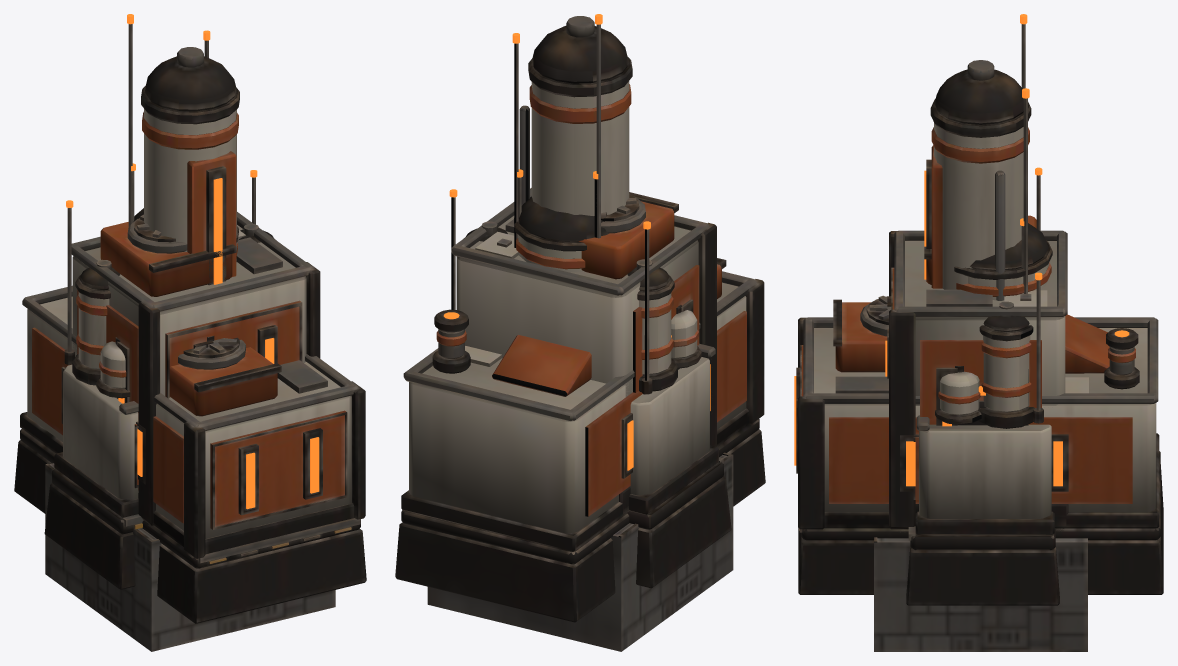
File: facility-kit-v4-taller.glb
3 views of the same model, side by side, from view 1: azimuth 30°, elevation 25°; view 2: azimuth 150°, elevation 25°; view 3: azimuth 270°, elevation 25° (orthographic). The views are drawn at different scales.
Visible parts, largest first — view 1: fk_khepri_hall_l, fk_khepri_hall_s, fk_khepri_refinery, fk_khepri_tower, fk_khepri_apron; view 2: fk_khepri_hall_l, fk_khepri_hall_s, fk_khepri_refinery, fk_khepri_tower, fk_khepri_apron; view 3: fk_khepri_hall_l, fk_khepri_refinery, fk_khepri_hall_s, fk_khepri_tower, fk_khepri_apron.
Boxes of the visible parts, x1,y1,x2,y2 form: fk_khepri_hall_l: (14, 285, 366, 623); fk_khepri_hall_s: (71, 212, 320, 525); fk_khepri_refinery: (44, 170, 274, 589); fk_khepri_tower: (127, 14, 239, 285); fk_khepri_apron: (45, 463, 335, 651); fk_khepri_hall_l: (395, 258, 765, 622); fk_khepri_hall_s: (451, 188, 716, 519); fk_khepri_refinery: (449, 189, 731, 588); fk_khepri_tower: (512, 14, 632, 247); fk_khepri_apron: (427, 452, 733, 651); fk_khepri_hall_l: (794, 295, 1163, 594); fk_khepri_refinery: (906, 167, 1059, 605); fk_khepri_hall_s: (885, 215, 1068, 538); fk_khepri_tower: (924, 14, 1031, 300); fk_khepri_apron: (874, 537, 1087, 651).
Bounding box in the file's own units: 2.34 × 5.9 × 3.45.
3 materials, 1 textured.
